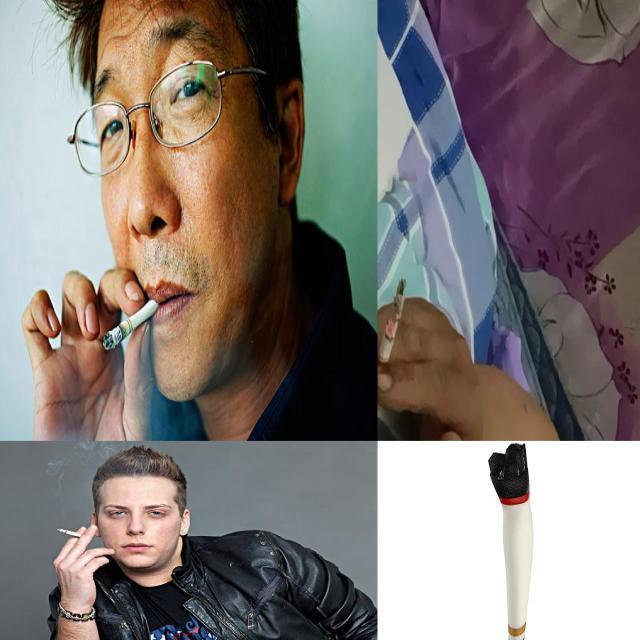smoking: (101, 290, 169, 354), (378, 276, 408, 420), (56, 528, 87, 540)
